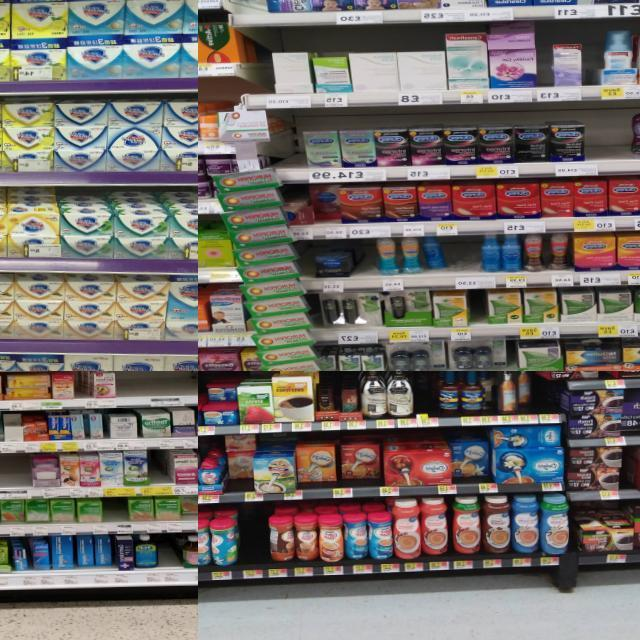Imprecise: (445, 433, 492, 483), (307, 184, 348, 228), (218, 440, 250, 490), (514, 368, 542, 409)
